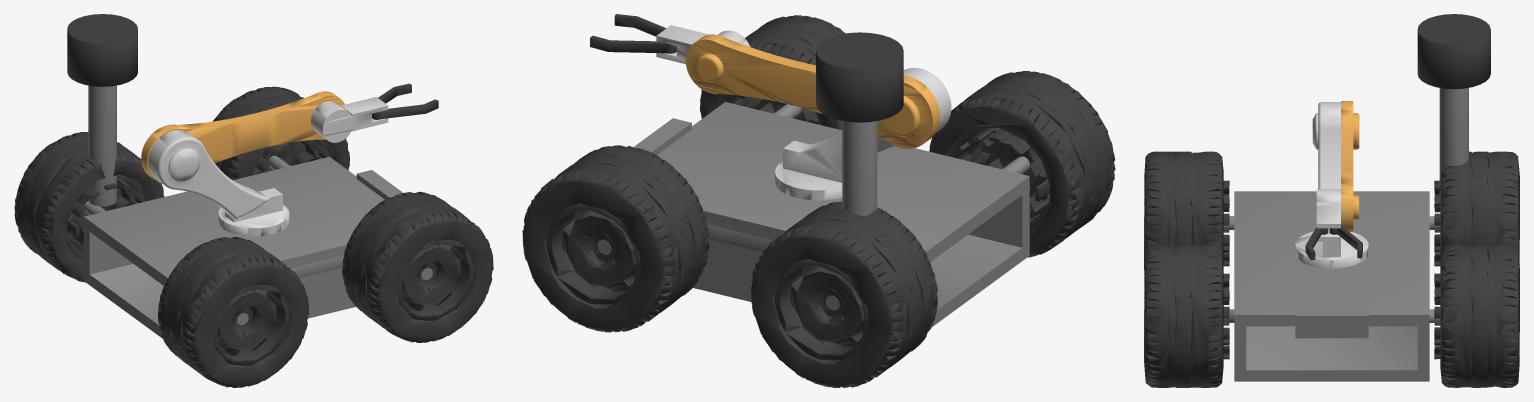
File: robot_high.glb
3 renders of one model, left to right at view 1: azimuth 30°, elevation 25°; view 2: azimuth 150°, elevation 25°; view 3: azimuth 270°, elevation 25°, orthographic. The views are drawn at different scales.
Visible parts, largest first — view 1: visual:chassis_link:0, visual:wheel1:0, visual:wheel2:0, visual:wheel4:0, visual:m_link1:0, visual:m_link2:0, visual:lidar_link:0, visual:wheel3:0, visual:lidar_link:1, visual:m_link3:0, visual:camera_link:0, visual:grip1:0; view 2: visual:chassis_link:0, visual:wheel3:0, visual:wheel4:0, visual:wheel2:0, visual:m_link2:0, visual:lidar_link:0, visual:m_link1:0, visual:wheel1:0, visual:lidar_link:1, visual:m_link3:0, visual:grip2:0, visual:camera_link:0 (+1 smaller); view 3: visual:chassis_link:0, visual:wheel1:0, visual:wheel3:0, visual:wheel2:0, visual:wheel4:0, visual:lidar_link:0, visual:m_link1:0, visual:lidar_link:1, visual:camera_link:0, visual:m_link2:0, visual:m_link3:0, visual:grip2:0 (+1 smaller).
Boxes of the visible parts, x1=… form: visual:chassis_link:0: x1=83, y1=155, x2=432, y2=338; visual:wheel1:0: x1=342, y1=191, x2=493, y2=342; visual:wheel2:0: x1=158, y1=236, x2=308, y2=387; visual:wheel4:0: x1=14, y1=132, x2=164, y2=282; visual:m_link1:0: x1=148, y1=130, x2=289, y2=236; visual:m_link2:0: x1=141, y1=91, x2=344, y2=182; visual:lidar_link:0: x1=67, y1=14, x2=137, y2=86; visual:wheel3:0: x1=212, y1=86, x2=349, y2=179; visual:lidar_link:1: x1=88, y1=85, x2=116, y2=206; visual:m_link3:0: x1=311, y1=97, x2=388, y2=142; visual:camera_link:0: x1=356, y1=170, x2=403, y2=199; visual:grip1:0: x1=372, y1=99, x2=438, y2=119; visual:chassis_link:0: x1=597, y1=102, x2=1029, y2=326; visual:wheel3:0: x1=522, y1=145, x2=709, y2=332; visual:wheel4:0: x1=750, y1=201, x2=937, y2=387; visual:wheel2:0: x1=929, y1=71, x2=1115, y2=257; visual:m_link2:0: x1=685, y1=34, x2=940, y2=148; visual:lidar_link:0: x1=816, y1=32, x2=903, y2=122; visual:m_link1:0: x1=775, y1=68, x2=951, y2=200; visual:wheel1:0: x1=700, y1=15, x2=845, y2=130; visual:lidar_link:1: x1=842, y1=121, x2=877, y2=216; visual:m_link3:0: x1=656, y1=25, x2=750, y2=64; visual:grip2:0: x1=590, y1=35, x2=676, y2=53; visual:camera_link:0: x1=633, y1=118, x2=691, y2=155; visual:chassis_link:0: x1=1223, y1=191, x2=1440, y2=381; visual:wheel1:0: x1=1144, y1=244, x2=1229, y2=387; visual:wheel3:0: x1=1434, y1=244, x2=1519, y2=387; visual:wheel2:0: x1=1144, y1=151, x2=1229, y2=269; visual:wheel4:0: x1=1434, y1=151, x2=1519, y2=266; visual:lidar_link:0: x1=1417, y1=14, x2=1490, y2=89; visual:m_link1:0: x1=1295, y1=102, x2=1368, y2=268; visual:lidar_link:1: x1=1439, y1=88, x2=1468, y2=207; visual:camera_link:0: x1=1295, y1=308, x2=1368, y2=338; visual:m_link2:0: x1=1341, y1=101, x2=1359, y2=231; visual:m_link3:0: x1=1316, y1=189, x2=1340, y2=241; visual:grip2:0: x1=1329, y1=225, x2=1362, y2=258.
Bounding box in the file's own units: 0.3189 × 0.2337 × 0.3076.
